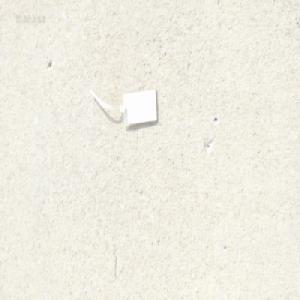LuggageTag: (88, 72, 160, 129)
